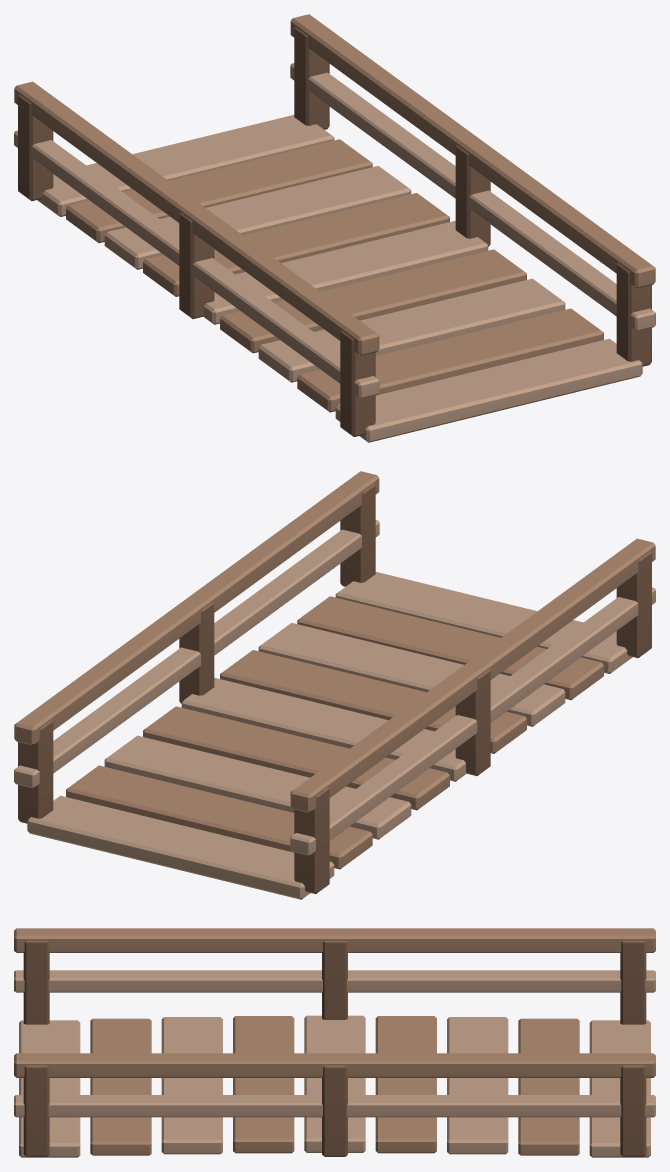
File: bridge.glb
The picture shows the model from 3 angles, top to bottom: view 1: azimuth 30°, elevation 25°; view 2: azimuth 150°, elevation 25°; view 3: azimuth 270°, elevation 25°; orthographic projection. The views are drawn at different scales.
Visible parts, largest first — view 1: bridge; view 2: bridge; view 3: bridge.
Boxes of the visible parts, bbox=[...] form: bridge: bbox=[14, 14, 655, 442]; bridge: bbox=[14, 471, 655, 899]; bridge: bbox=[14, 928, 655, 1157].
Size of the model in its own units: 1 by 0.35 by 2.
